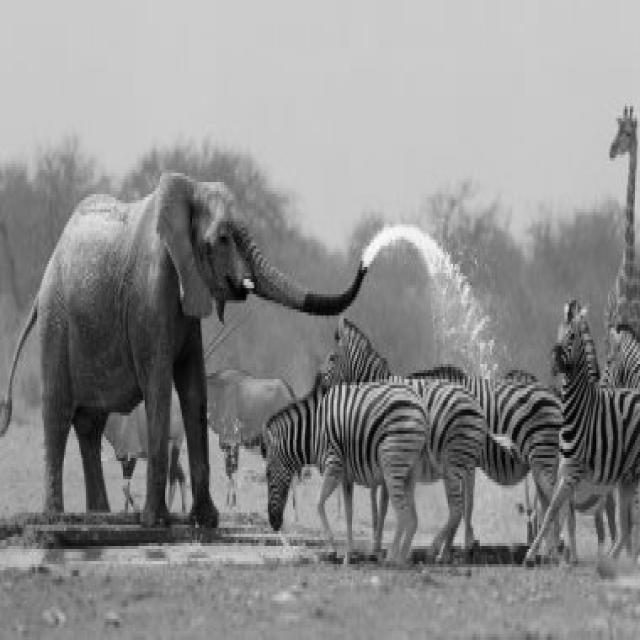Animal: (26, 186, 368, 535), (260, 355, 478, 571), (539, 299, 640, 563), (603, 112, 640, 339)
